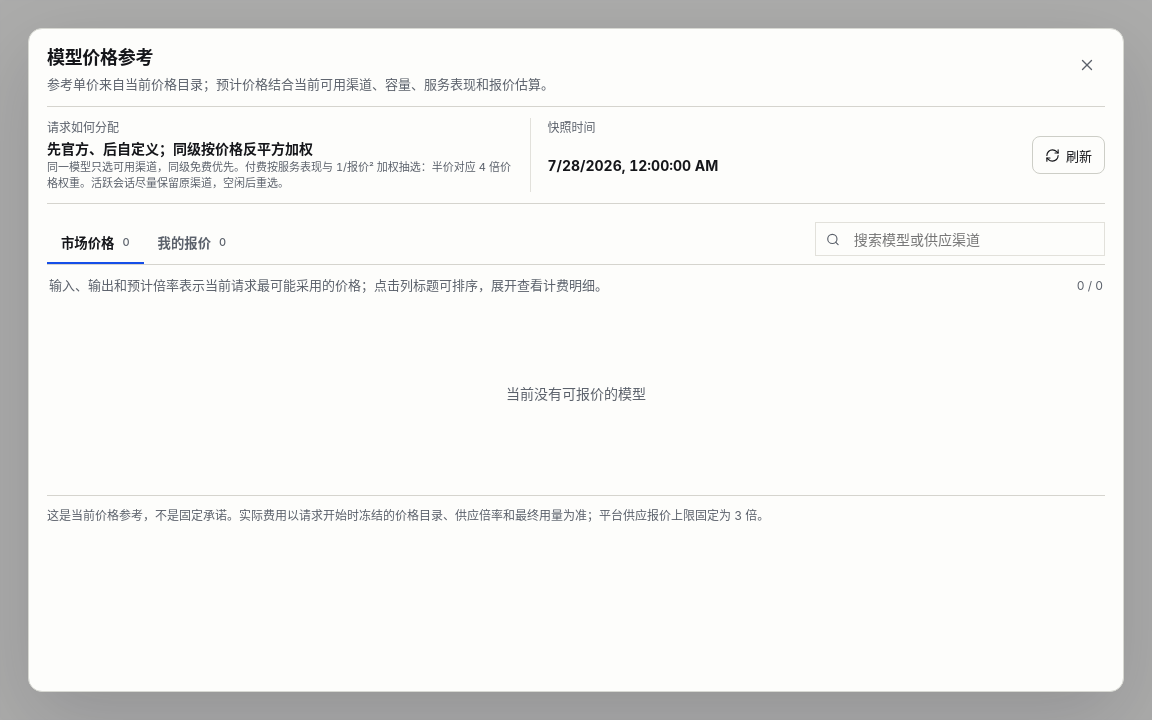
Test: MarketPricesModal › shows a legacy null empty page and refreshes successfully when supply returns
The width and height of the screenshot is (1152, 720).
Expected: the text "当前没有可报价的模型" is shown, [506,385,646,402]
Expected: the tab "市场价格 0" is shown, [47,222,144,264]
Click the button "刷新" at (1068, 155), box [1032,136,1105,174]
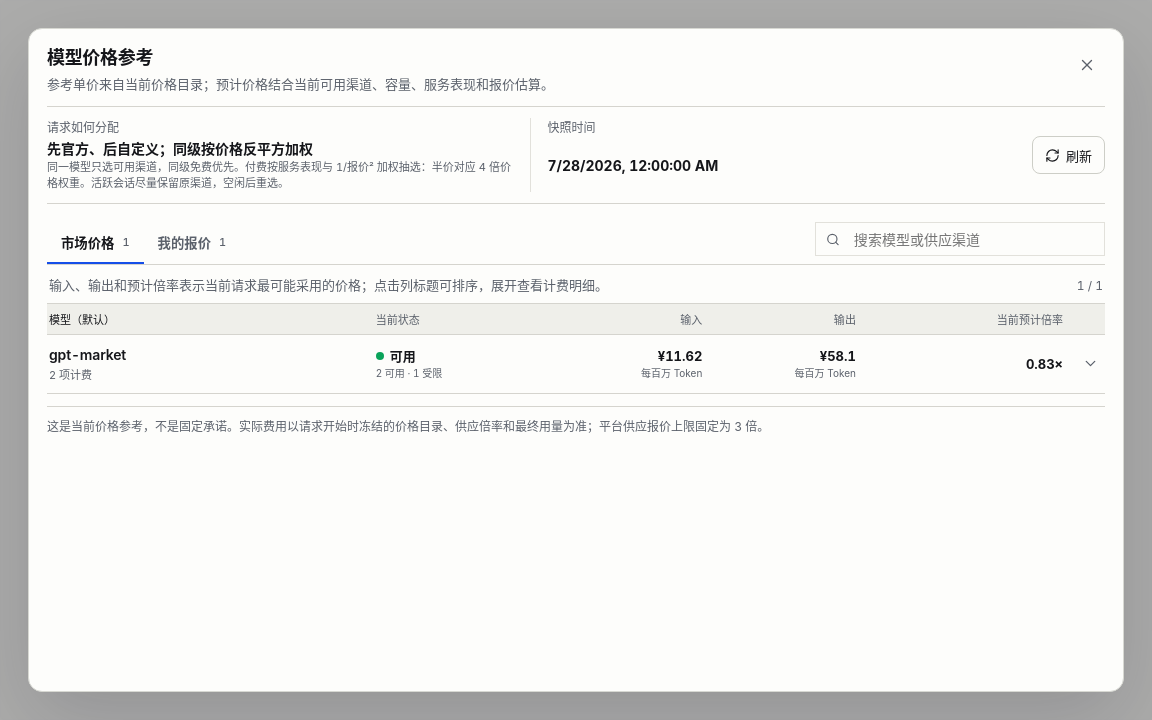
Expected: the heading "gpt-market" is shown, [49,346,126,363]
